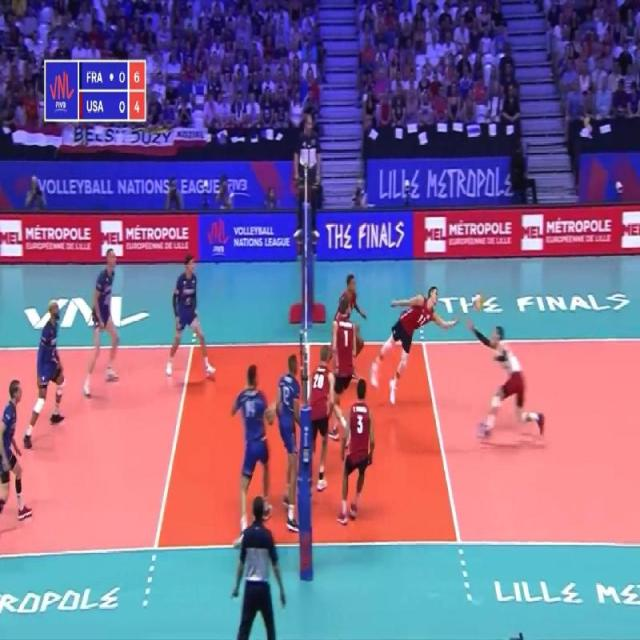volleyball: (473, 294, 482, 311)
